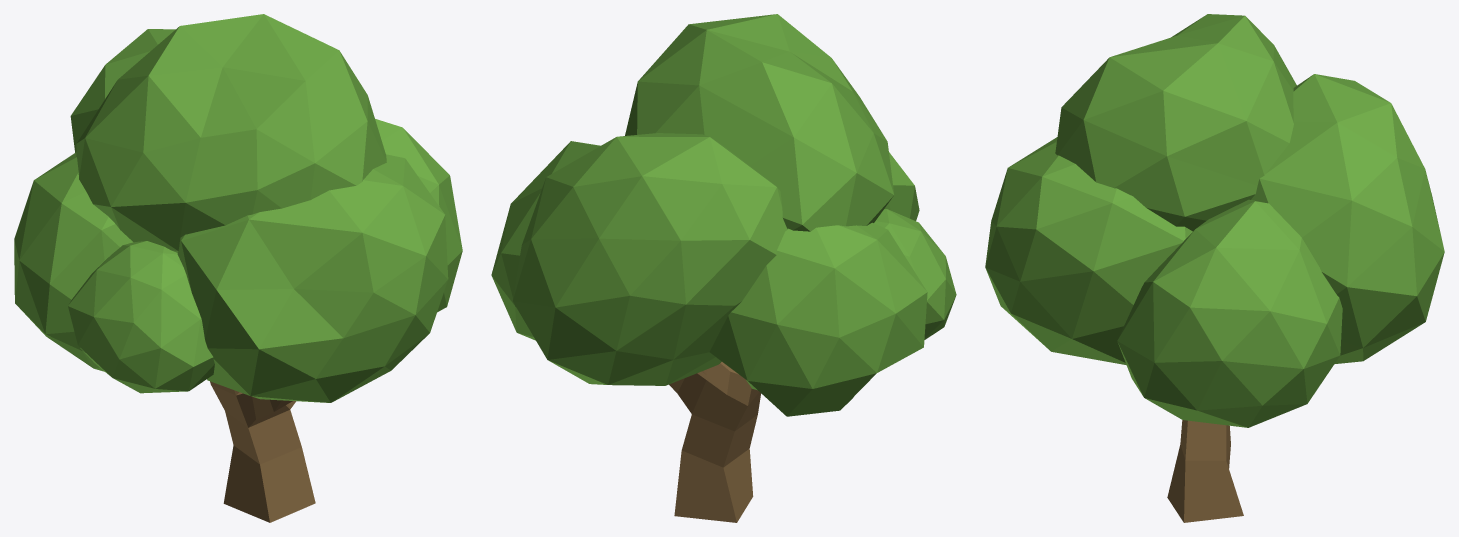
The model's file is forest-oak-c.glb.
3 renders of one model, left to right at view 1: azimuth 30°, elevation 25°; view 2: azimuth 150°, elevation 25°; view 3: azimuth 270°, elevation 25°, orthographic. The views are drawn at different scales.
Parts seen in each view (by area): view 1: OakTree3; view 2: OakTree3; view 3: OakTree3.
Boxes of the visible parts, <box> form: OakTree3: <box>14,14,462,522</box>; OakTree3: <box>491,14,956,522</box>; OakTree3: <box>985,14,1444,522</box>.
Bounding box in the file's own units: 13.82 × 15.84 × 14.23.
